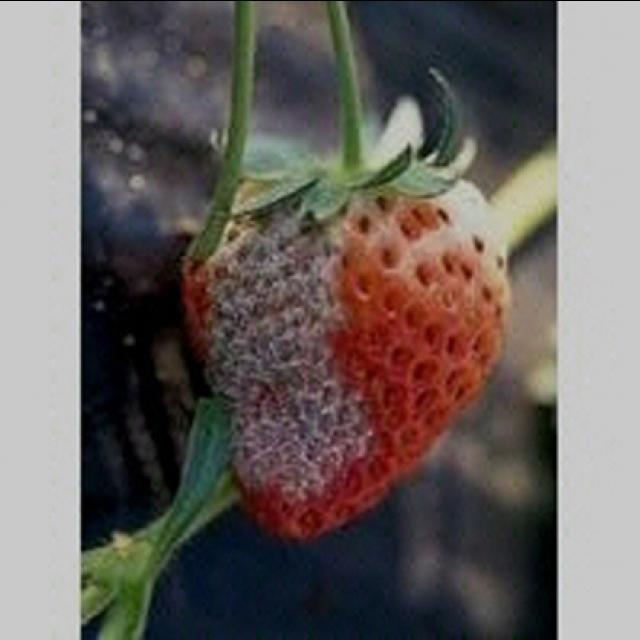Gray Mold: (186, 175, 386, 510)
